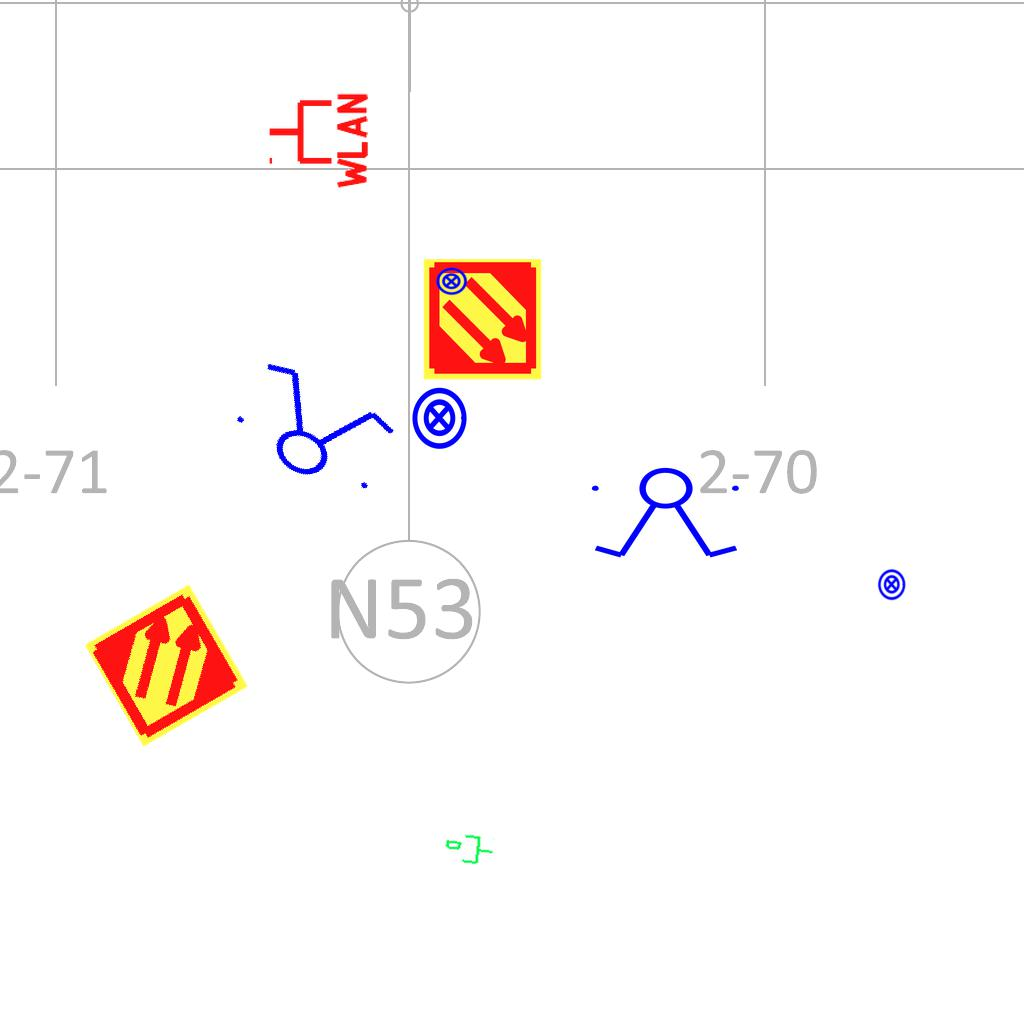ASR_Ansaugrauchmelder: (81, 580, 252, 751), (420, 257, 545, 382)
Datenanschluss_einfach: (442, 830, 496, 870)
Serienschalter: (216, 347, 410, 511), (583, 466, 751, 562)
Taster_beleuchtet: (406, 385, 472, 451), (875, 568, 908, 601), (435, 265, 468, 298)
WLAN: (265, 89, 370, 193)
